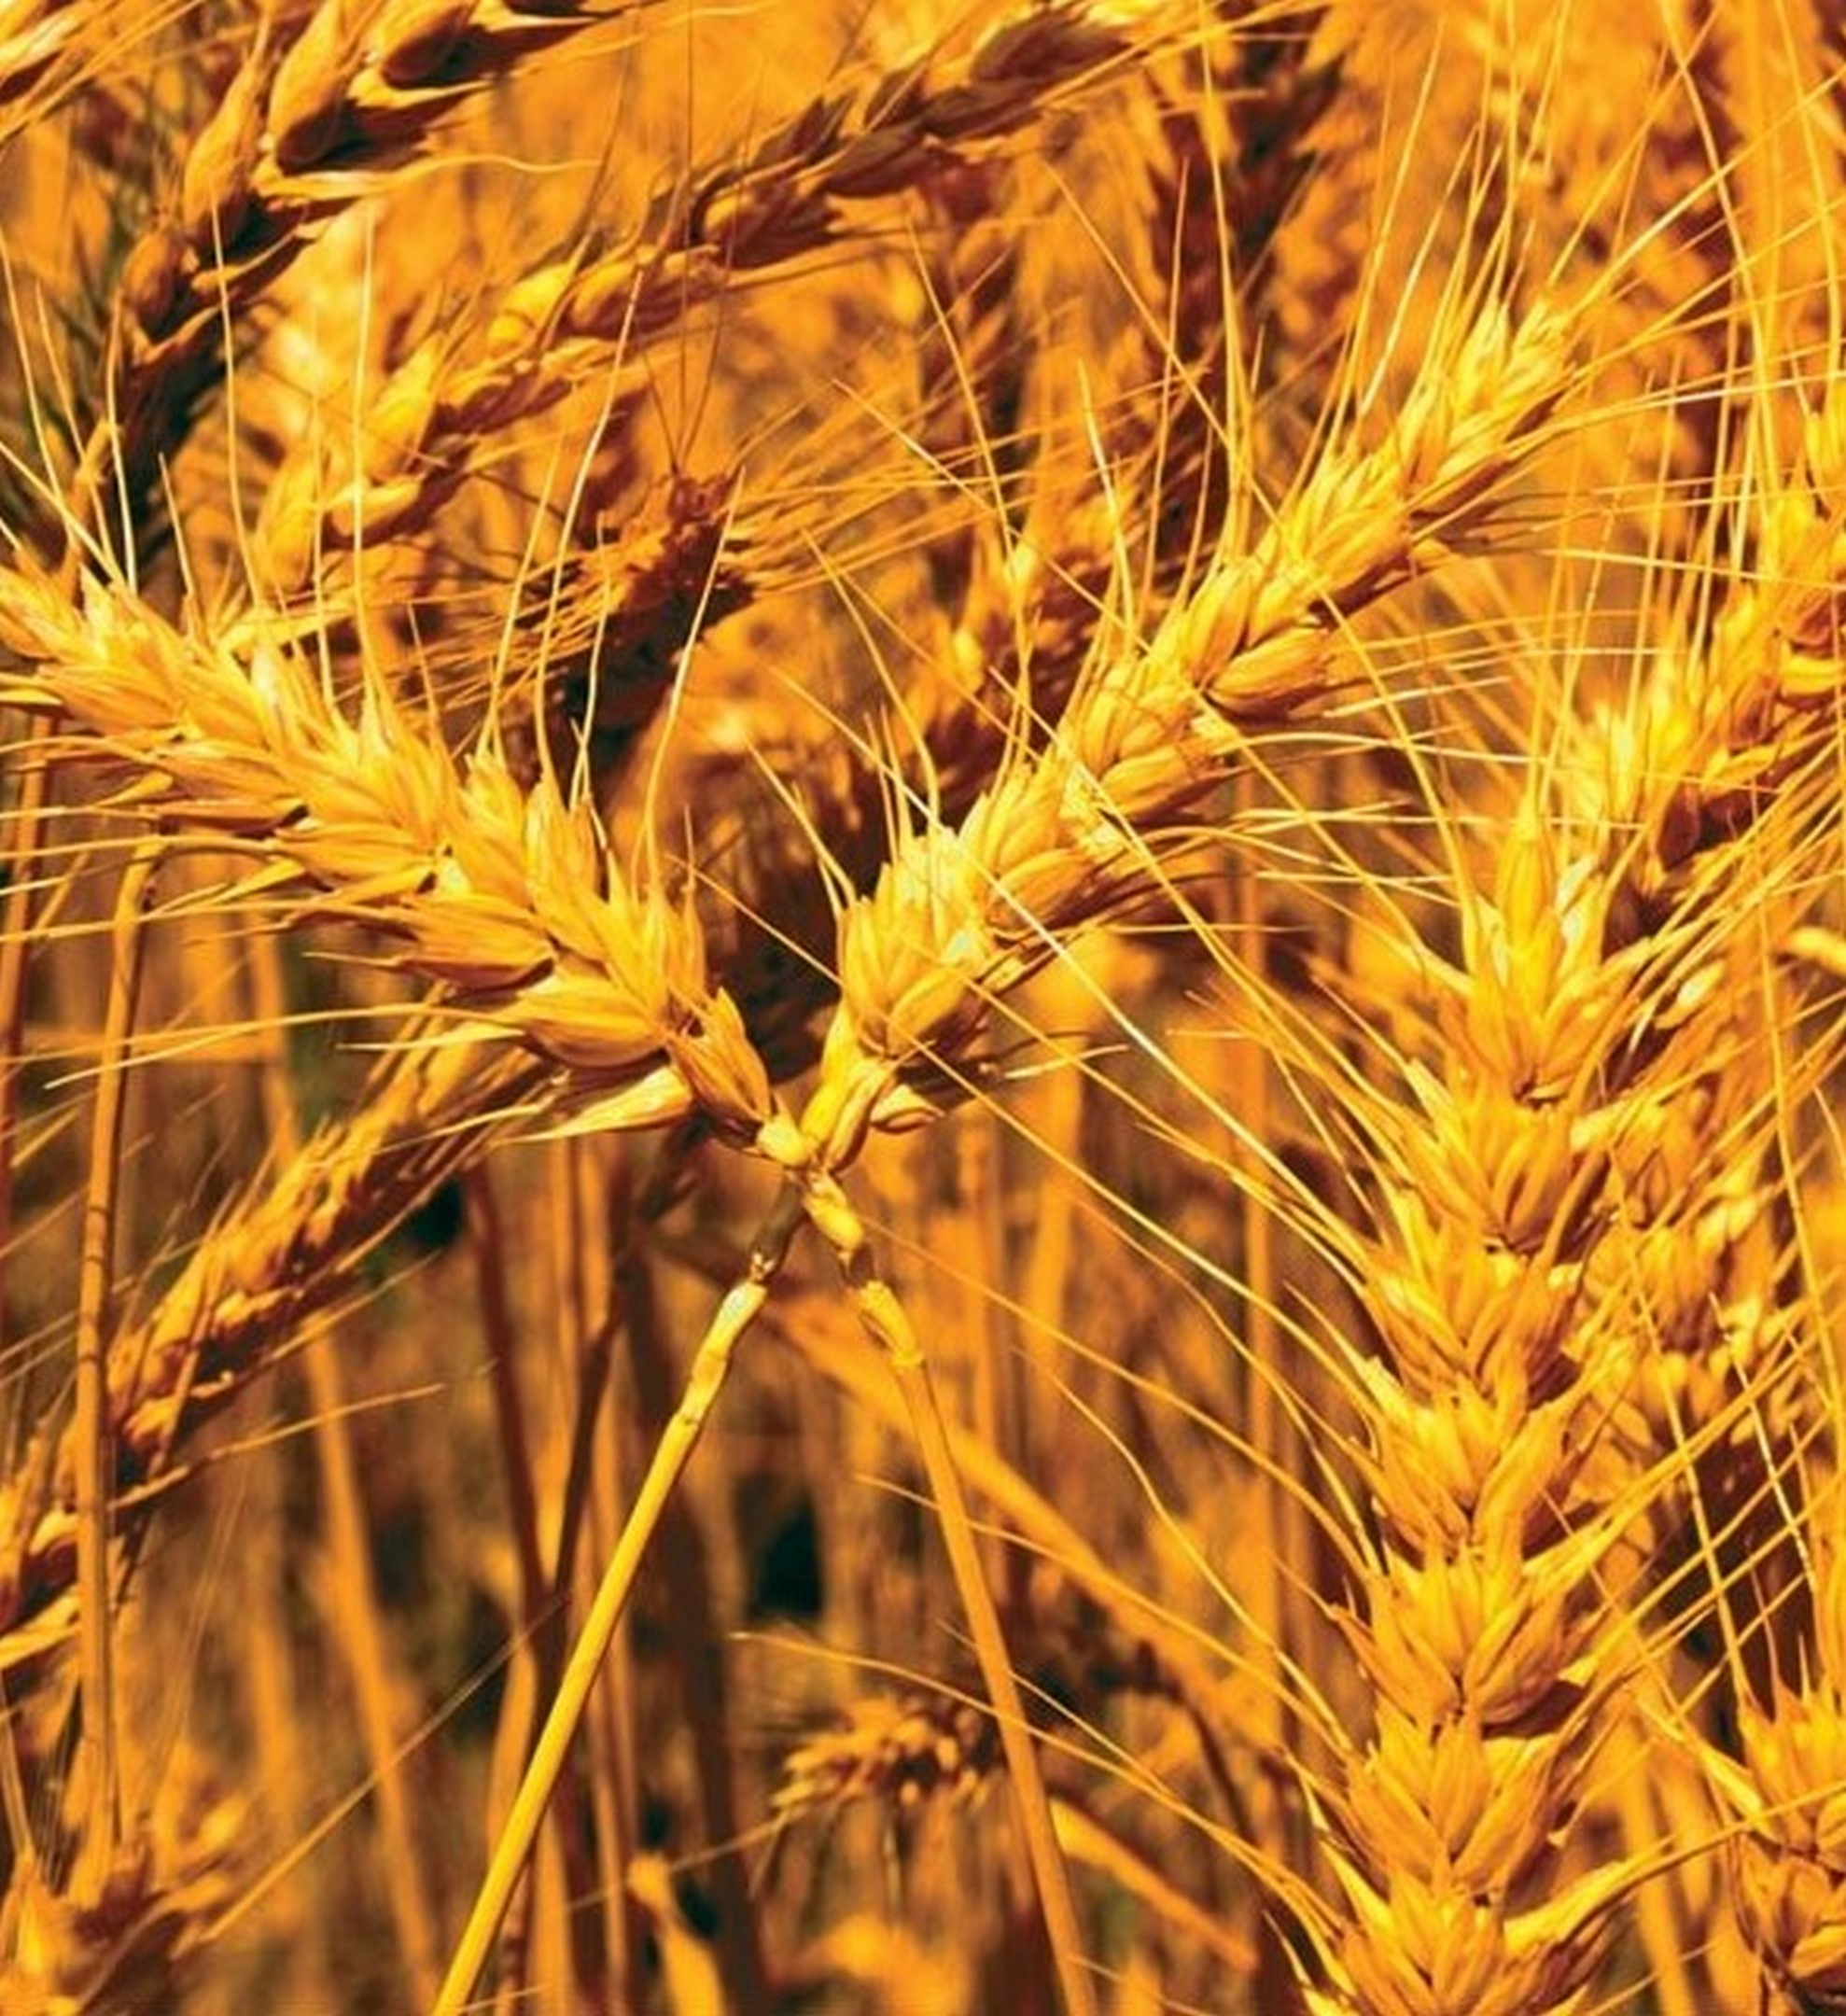Healthy Wheat: (852, 276, 1598, 1092), (18, 558, 748, 1134)
